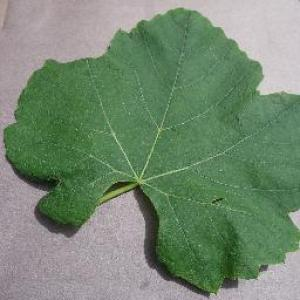Folha: (2, 6, 299, 295)
